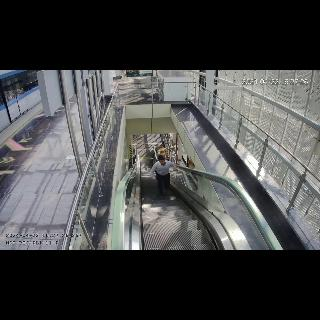normal: (149, 152, 177, 198)
